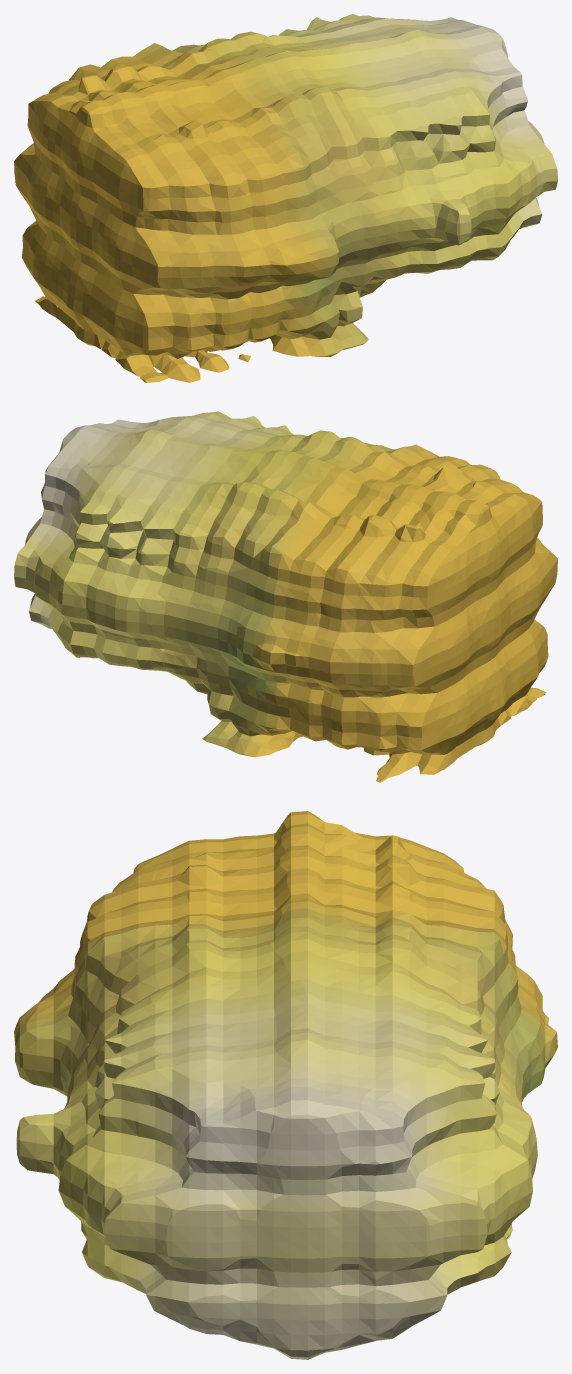
3 renders of one model, top to bottom at view 1: azimuth 30°, elevation 25°; view 2: azimuth 150°, elevation 25°; view 3: azimuth 270°, elevation 25°, orthographic. The views are drawn at different scales.
Parts seen in each view (by area): view 1: geometry_0; view 2: geometry_0; view 3: geometry_0.
Part boxes in pixels (box(x1,y1,x2,y2)): geometry_0: box(14, 14, 557, 382); geometry_0: box(14, 411, 557, 782); geometry_0: box(14, 811, 557, 1359).
Bounding box in the file's own units: 1.7 × 0.9231 × 1.37.
